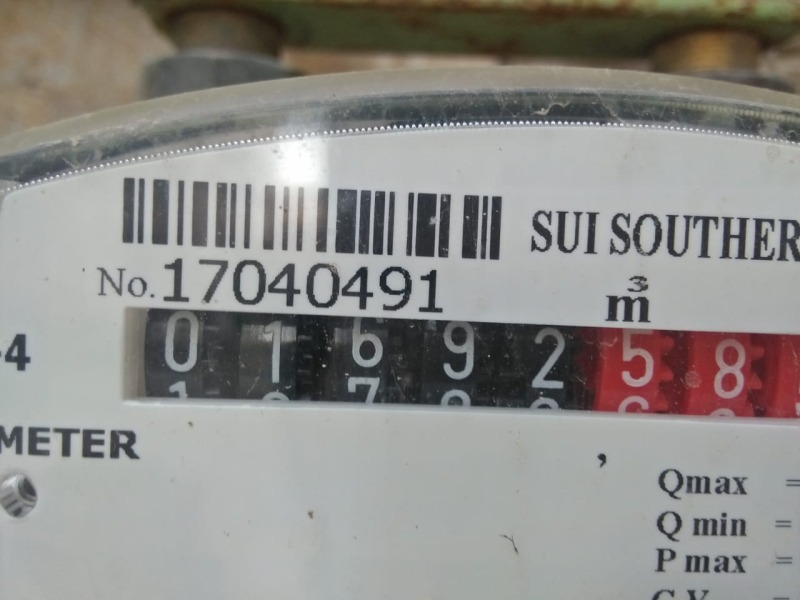ssgc: (115, 303, 797, 427)
